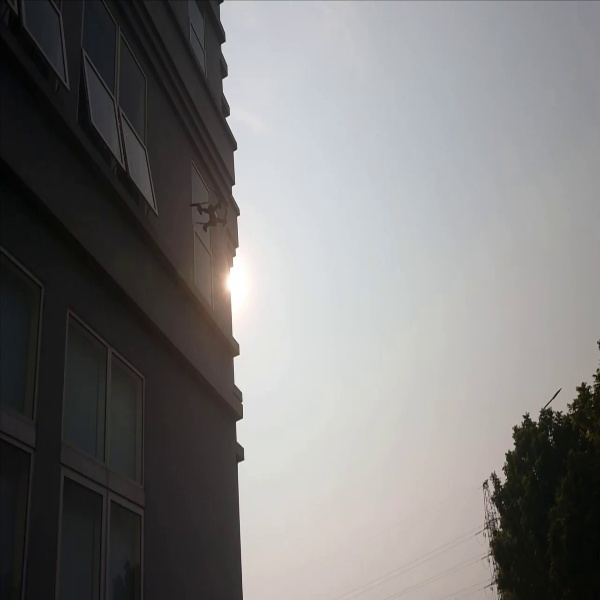drone: (189, 186, 232, 238)
